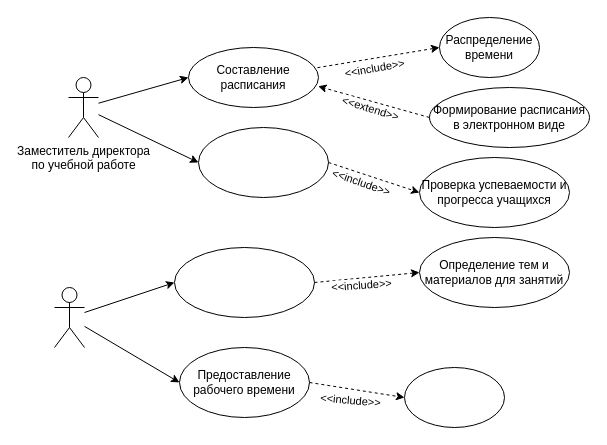
Image size: 607x445. Some labels were removed from this diagram. Here are the shapes that lost their labels. From the top down, the box of each, then its label:
(198, 126, 328, 198): Контроль за учебной нагрузкой
(174, 246, 314, 318): Получение расписания
(54, 286, 84, 348): Руководитель по пению
(404, 366, 504, 428): Проведение занятий
